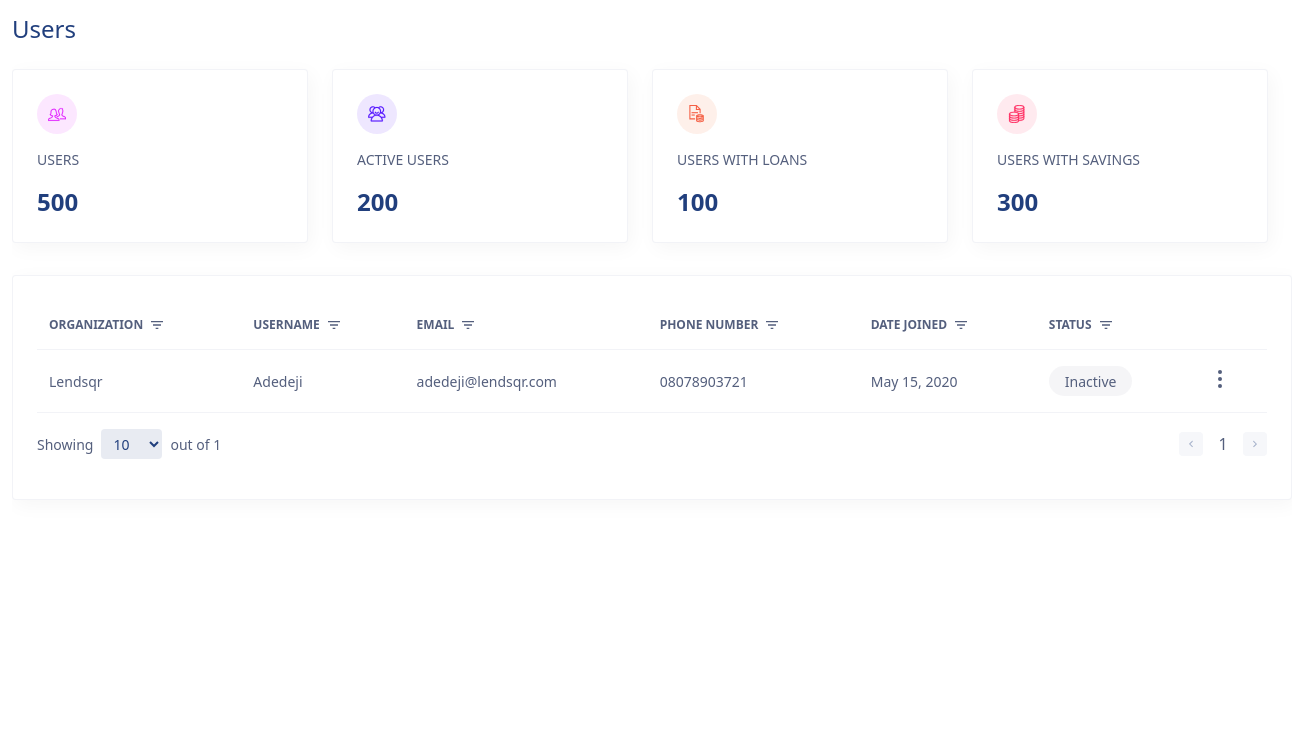
Test case: Users page › persists the selected user and updates status from the row action menu
Expected: the text "Adedeji" is shown, [241,350,405,412]
Click the button named "Actions for Adedeji" at (1220, 381), box [1208,369,1232,393]
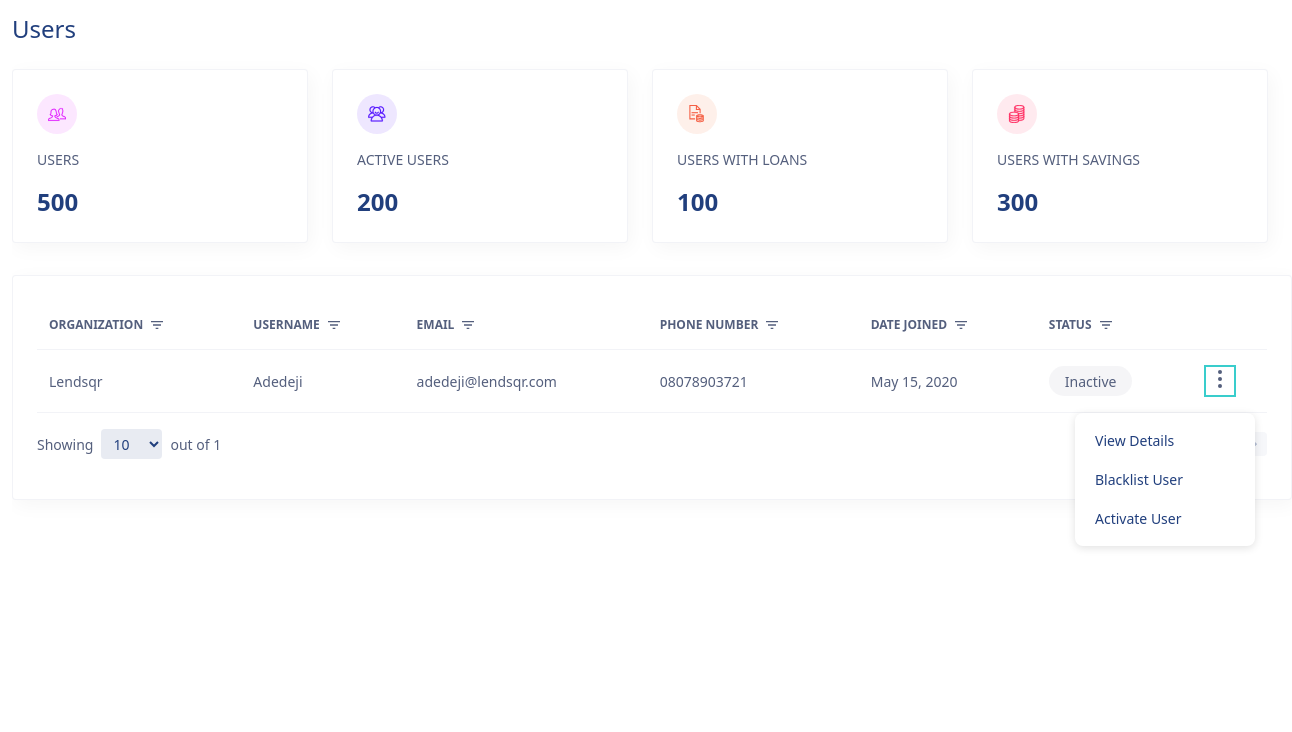
Click the menu item "View Details" at (1165, 440), box [1075,420,1255,460]
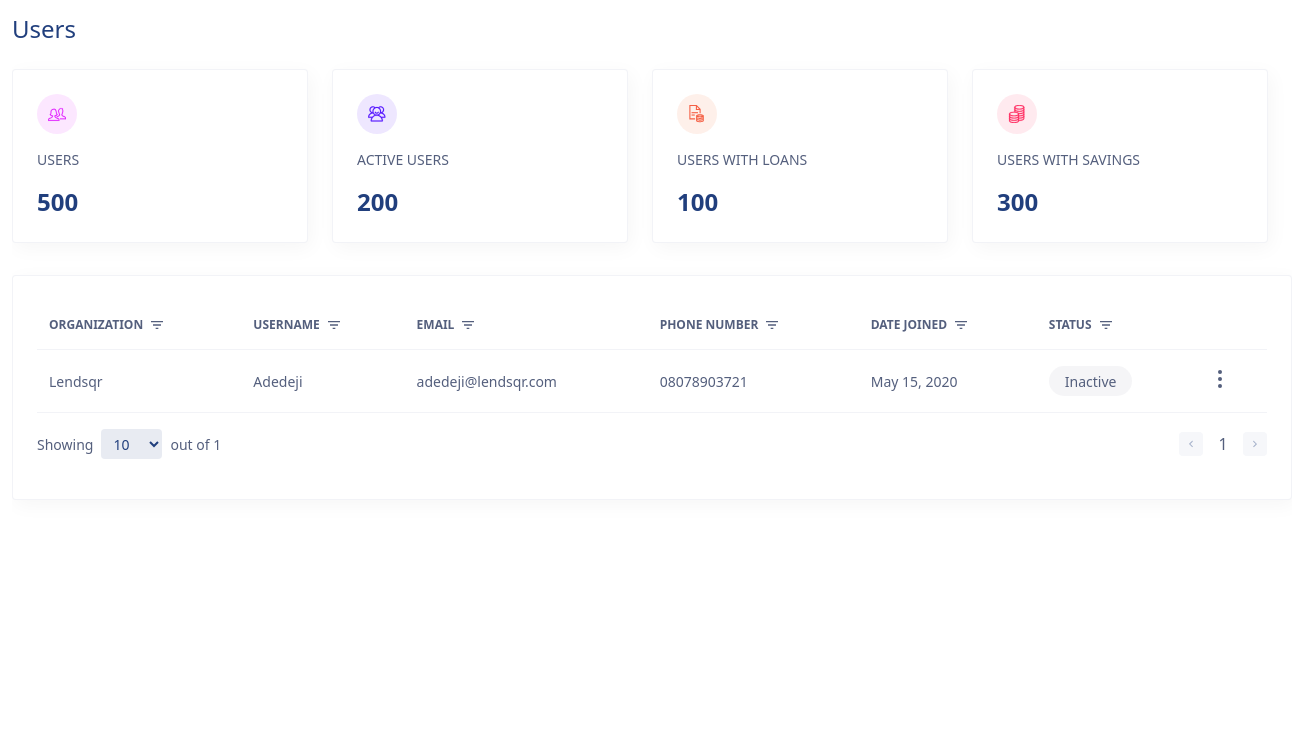
Click the button named "Actions for Adedeji" at (1220, 381), box [1208,369,1232,393]
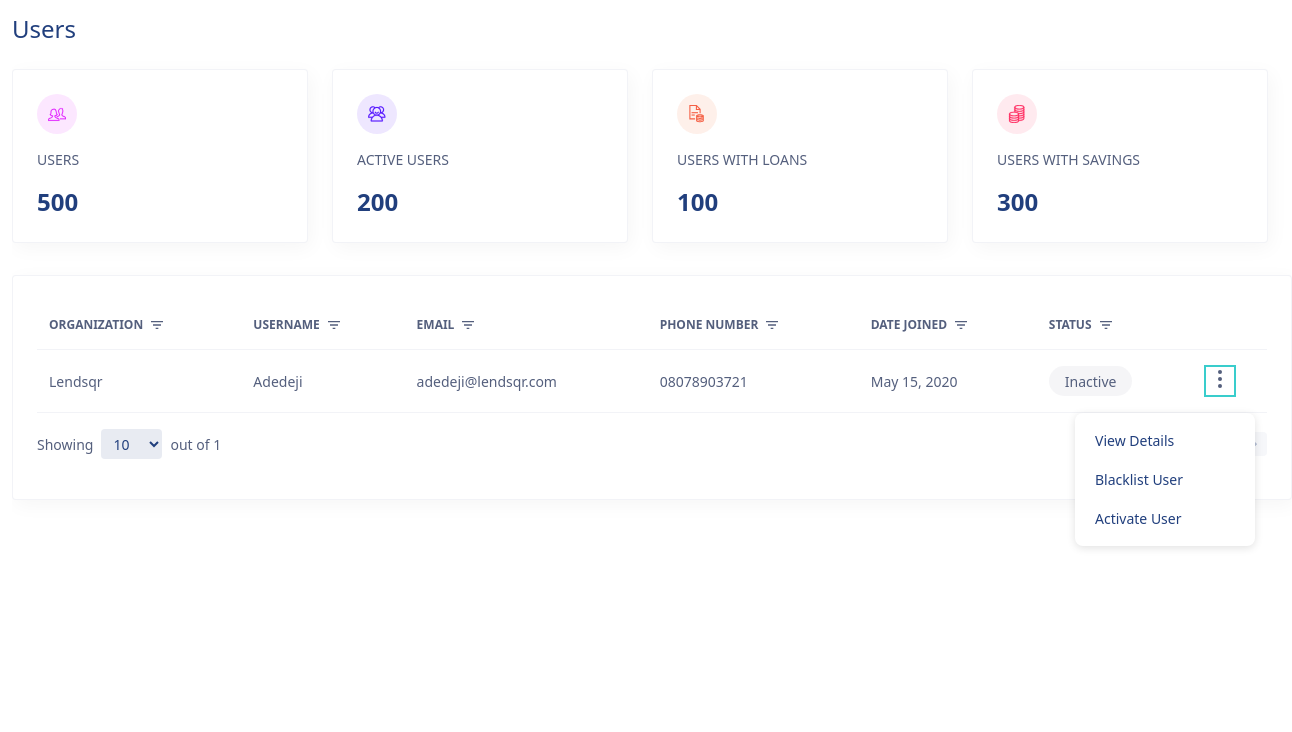
Click the menu item "Blacklist User" at (1165, 479), box [1075,460,1255,498]
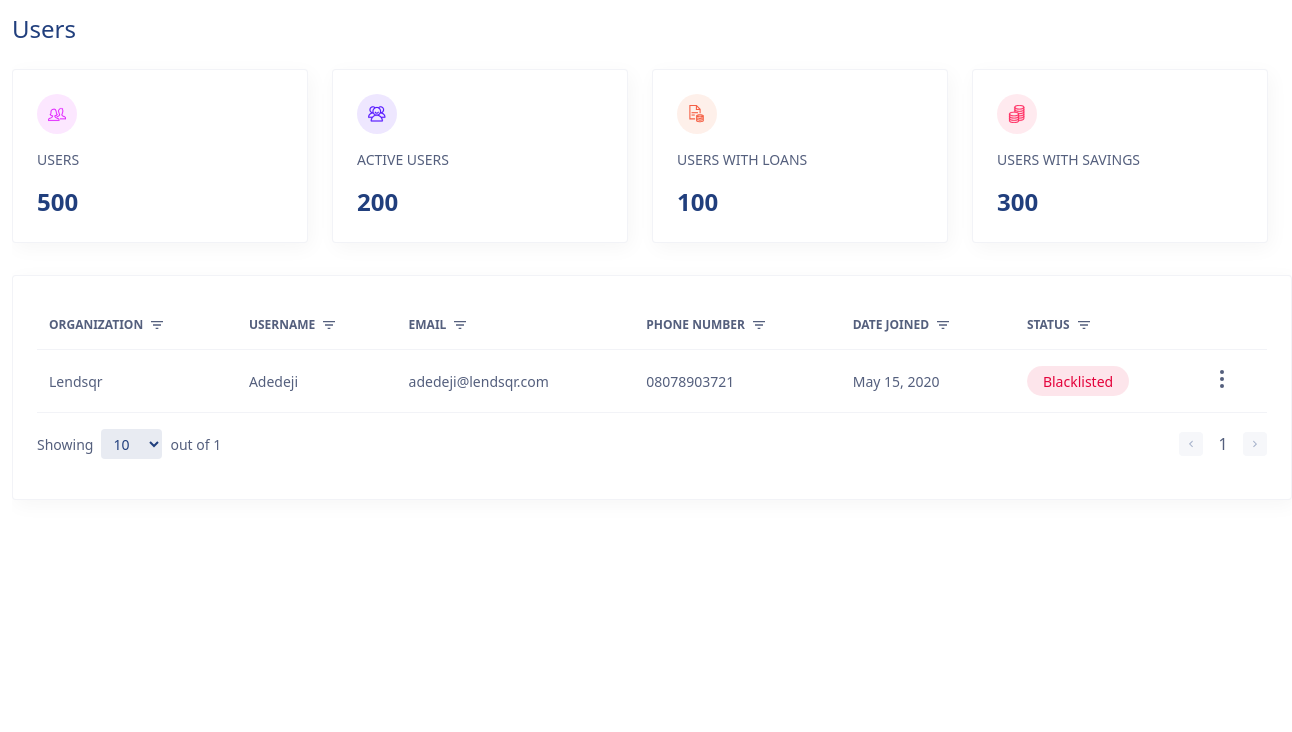
Now the text "Blacklisted" is shown, box [1027,366,1129,396]
